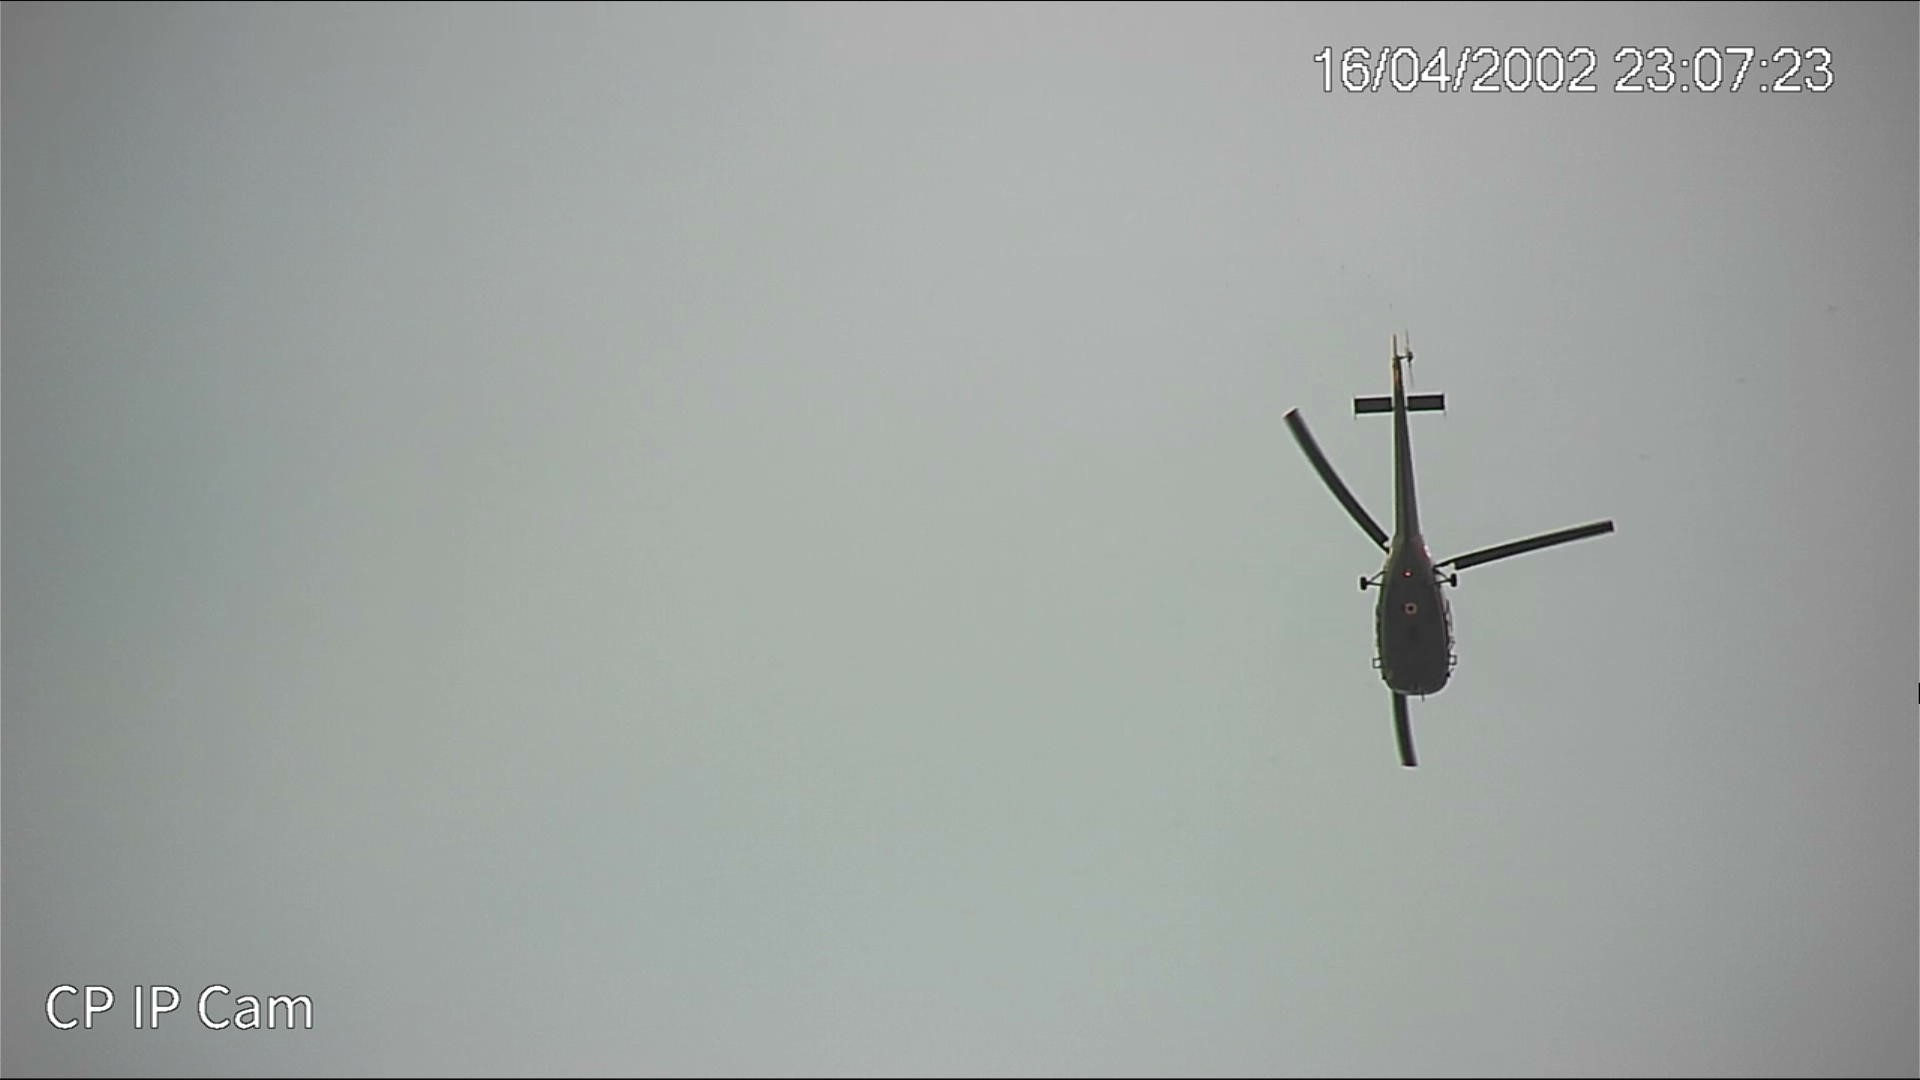SU_30: (1283, 334, 1618, 769)
